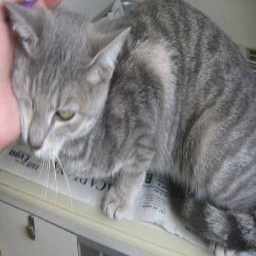cat: (5, 0, 256, 248)
